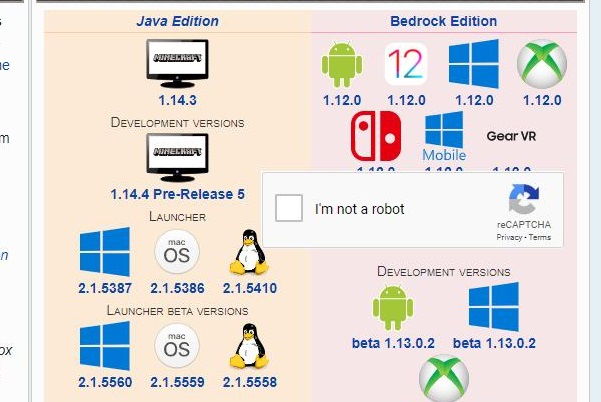captcha: (275, 194, 405, 222)
